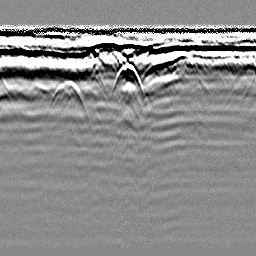cavity: (110, 58, 144, 95)
